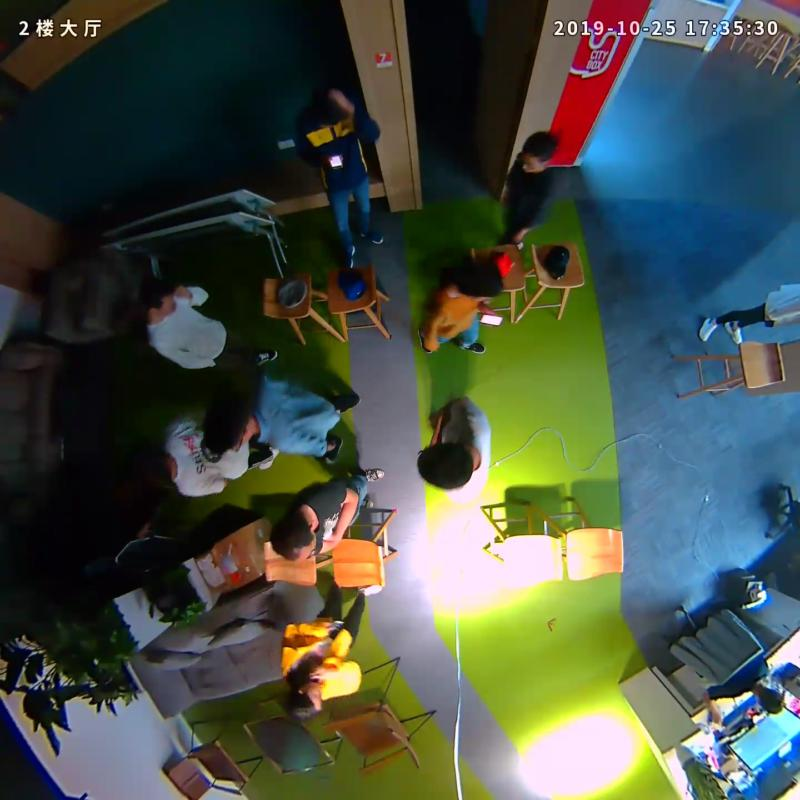head: (417, 442, 473, 490), (202, 407, 255, 454), (271, 511, 317, 563), (450, 259, 504, 303), (122, 449, 172, 492), (139, 278, 181, 320), (308, 85, 349, 126), (286, 678, 327, 718), (521, 132, 556, 173)
